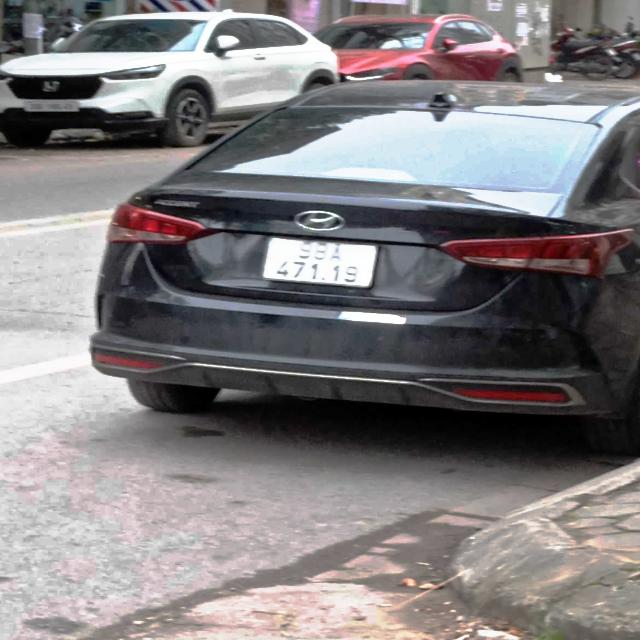license_plate: (252, 230, 392, 296)
